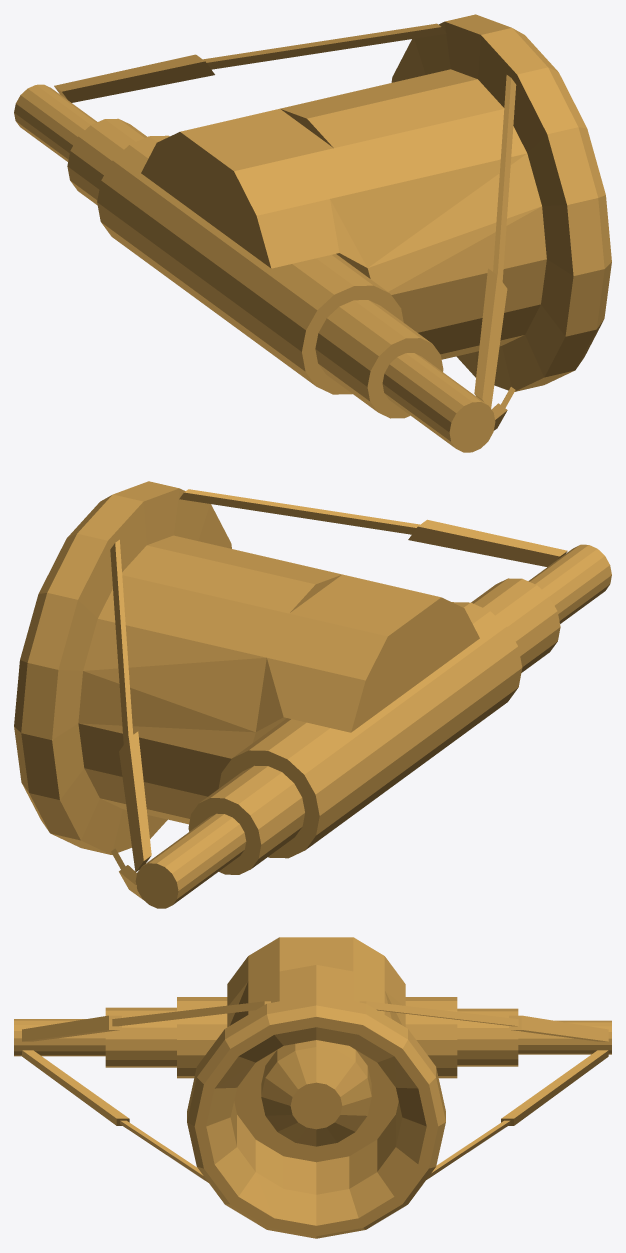
Rendered from rover-drill.glb.
3 views of the same model, one above another, from view 1: azimuth 30°, elevation 25°; view 2: azimuth 150°, elevation 25°; view 3: azimuth 270°, elevation 25° (orthographic). The views are drawn at different scales.
Size of the model in its own units: 0.1196 by 0.1208 by 0.2786.
